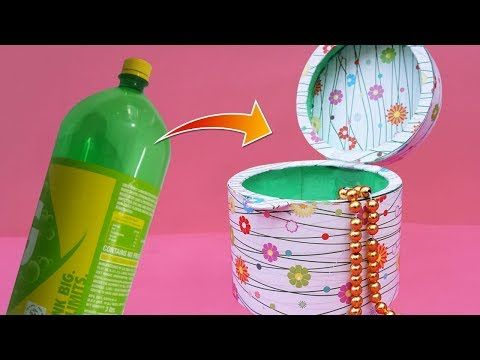plastic_bottle: (1, 53, 195, 329)
